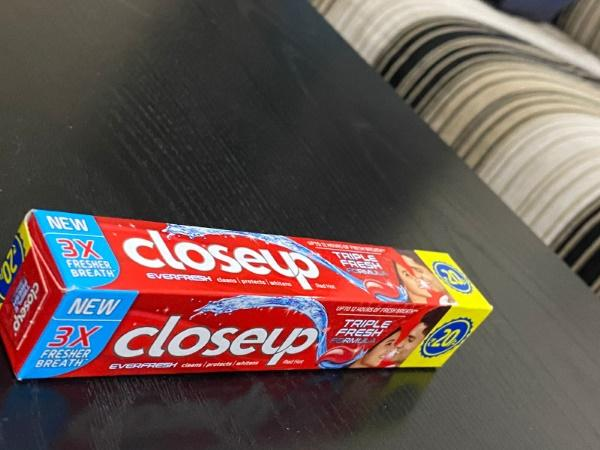CloseUp: (12, 197, 490, 390)
